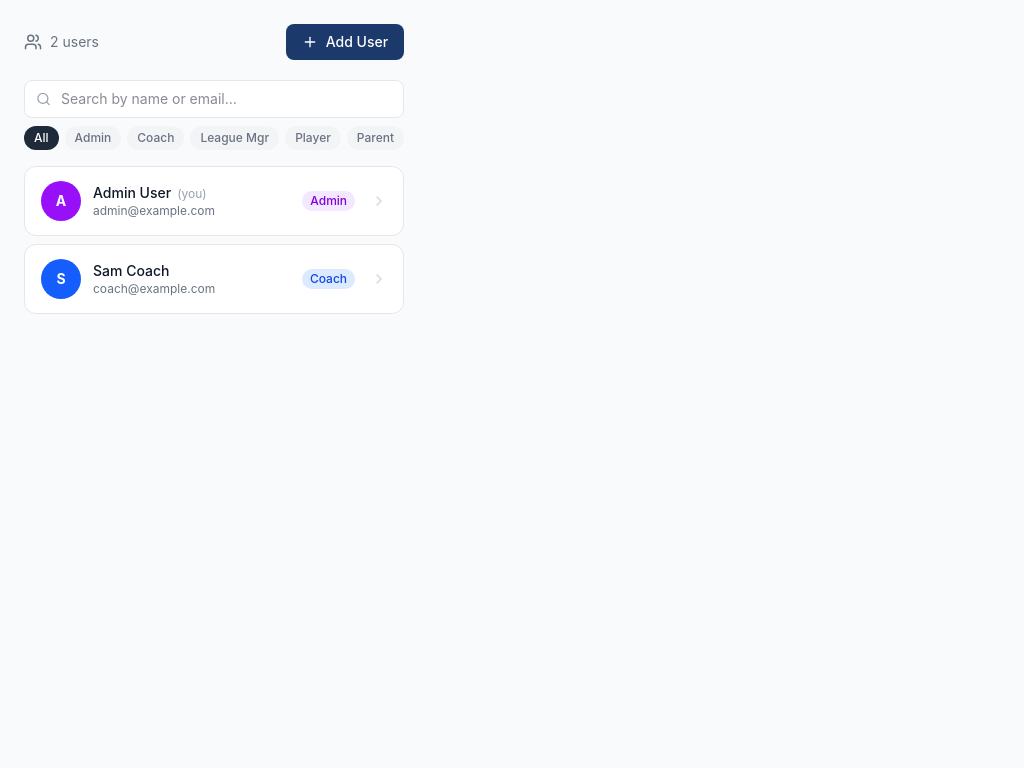
Test: UsersPage — slide-over opens on card click › closes the slide-over when Close panel button is clicked
The width and height of the screenshot is (1024, 768).
Expected: the text "Sam Coach" is shown, [93, 262, 170, 279]
Click the button "S Sam Coach coach@example.com Coach": click(214, 279) [24, 244, 404, 314]
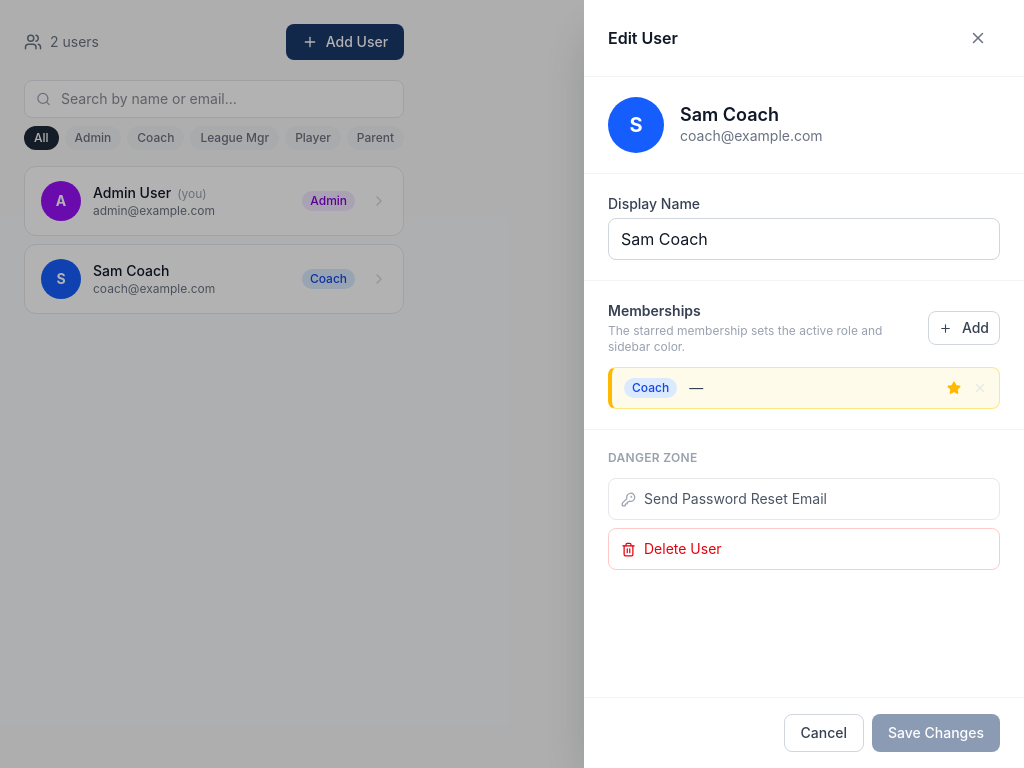
Expected: the dialog is shown, [584, 0, 1023, 767]
Click the button named "close panel": click(978, 38) [956, 16, 1000, 60]
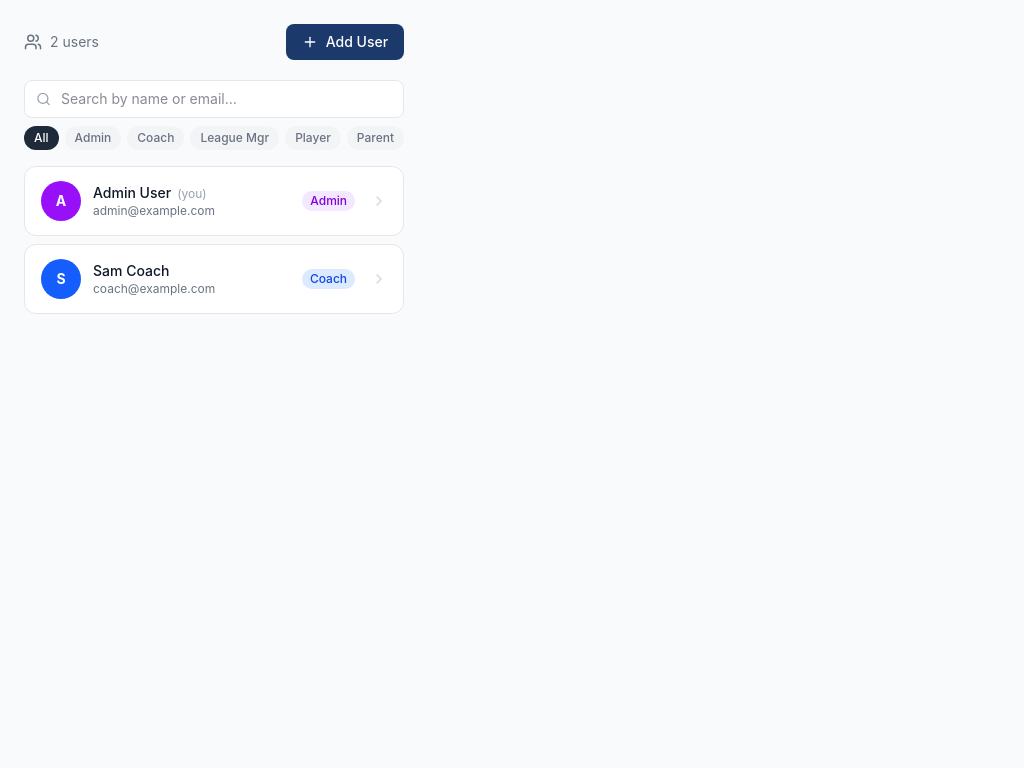
Expected: the dialog is gone
